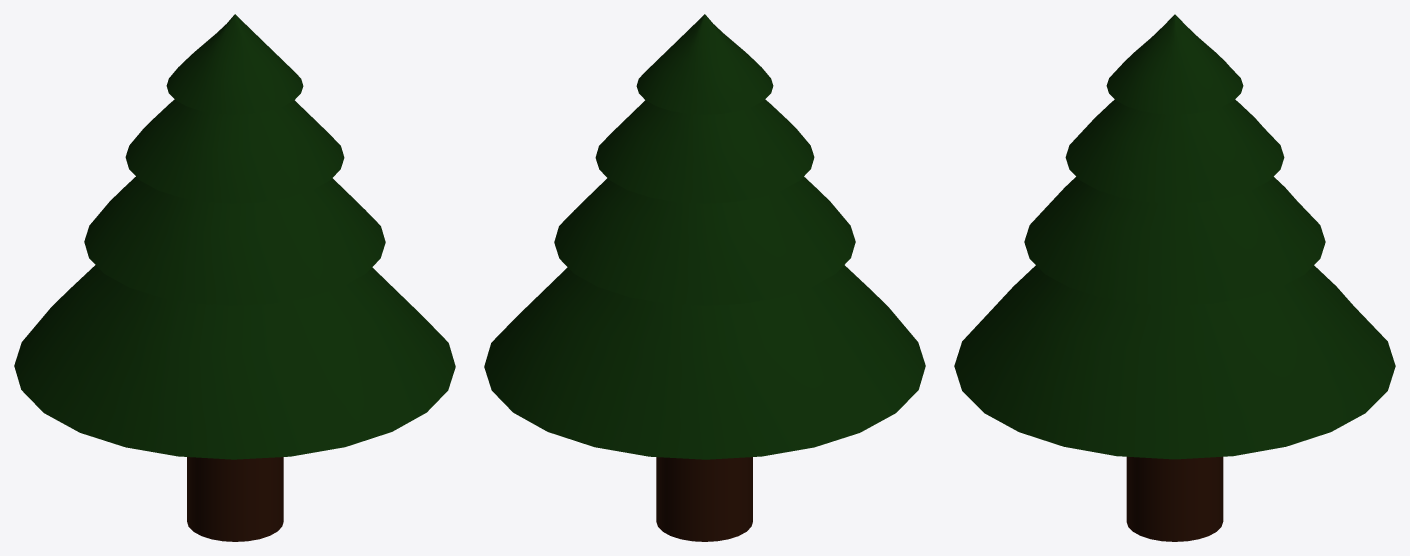
File: christmas_tree.FBX
3 renders of one model, left to right at view 1: azimuth 30°, elevation 25°; view 2: azimuth 150°, elevation 25°; view 3: azimuth 270°, elevation 25°, orthographic.
Parts seen in each view (by area): view 1: Cone001, Cylinder001; view 2: Cone001, Cylinder001; view 3: Cone001, Cylinder001.
Boxes of the visible parts, <box> form: Cone001: <box>14,14,455,459</box>; Cylinder001: <box>187,457,283,541</box>; Cone001: <box>484,14,925,459</box>; Cylinder001: <box>656,457,752,541</box>; Cone001: <box>954,14,1395,459</box>; Cylinder001: <box>1126,456,1223,541</box>.
Size of the model in its own units: 208 by 264 by 208.
